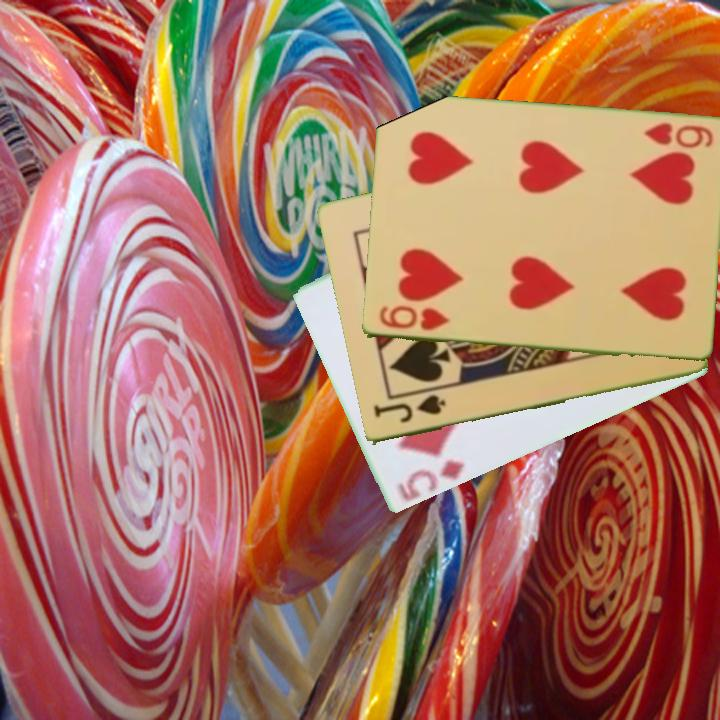5d: (394, 457, 468, 505)
6h: (640, 119, 716, 152), (375, 302, 452, 334)
Js: (370, 392, 448, 427)
